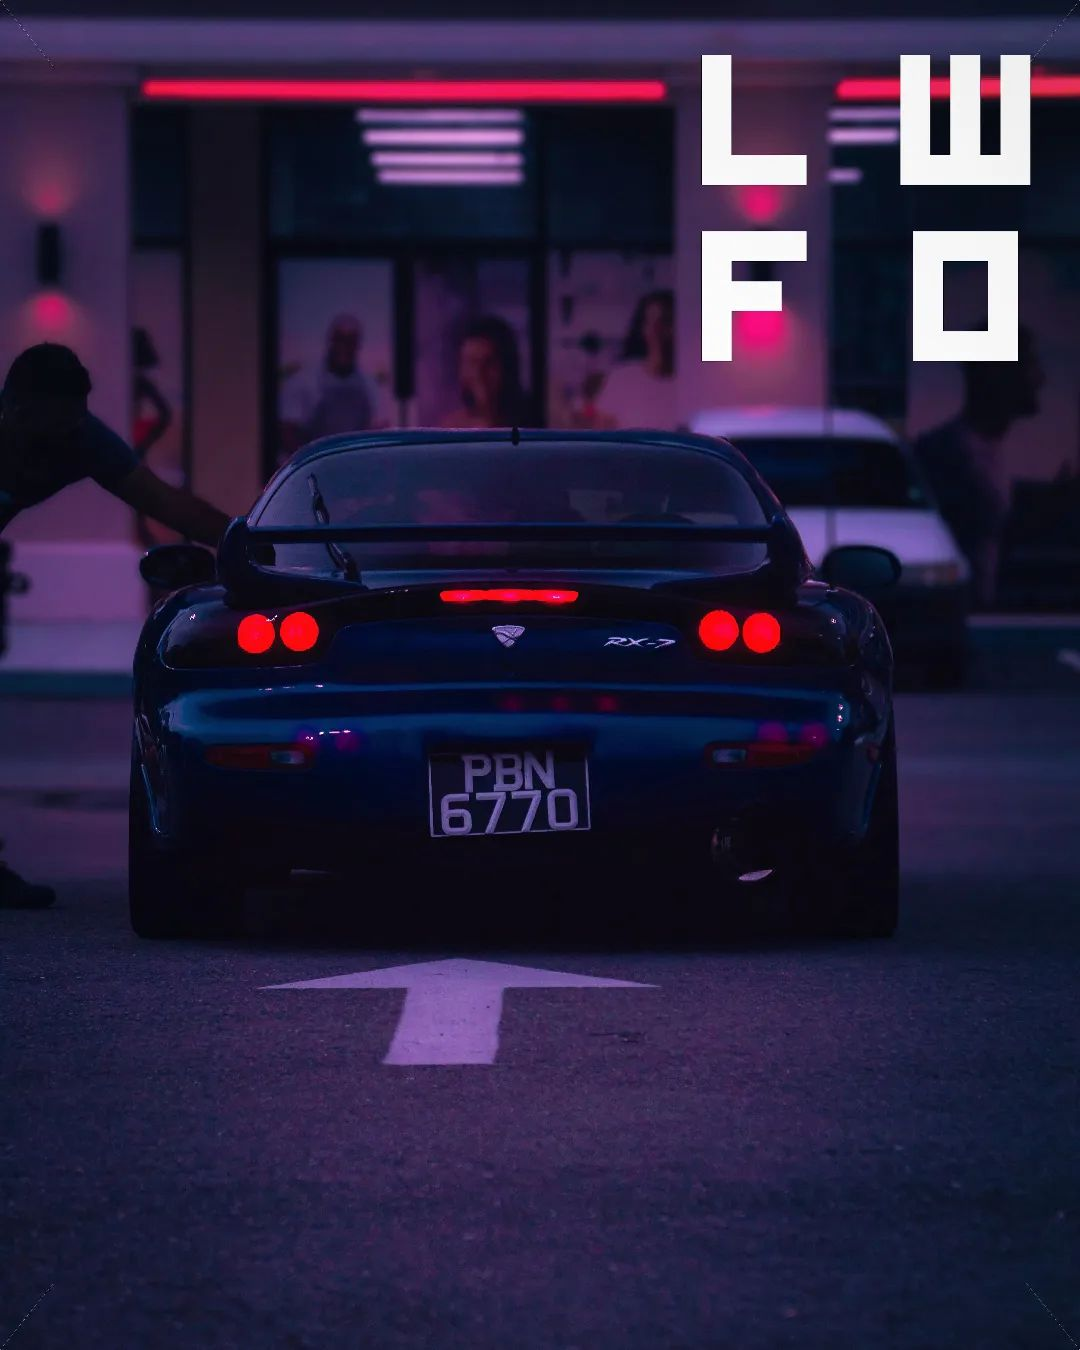License-Plate: (428, 754, 586, 837)
